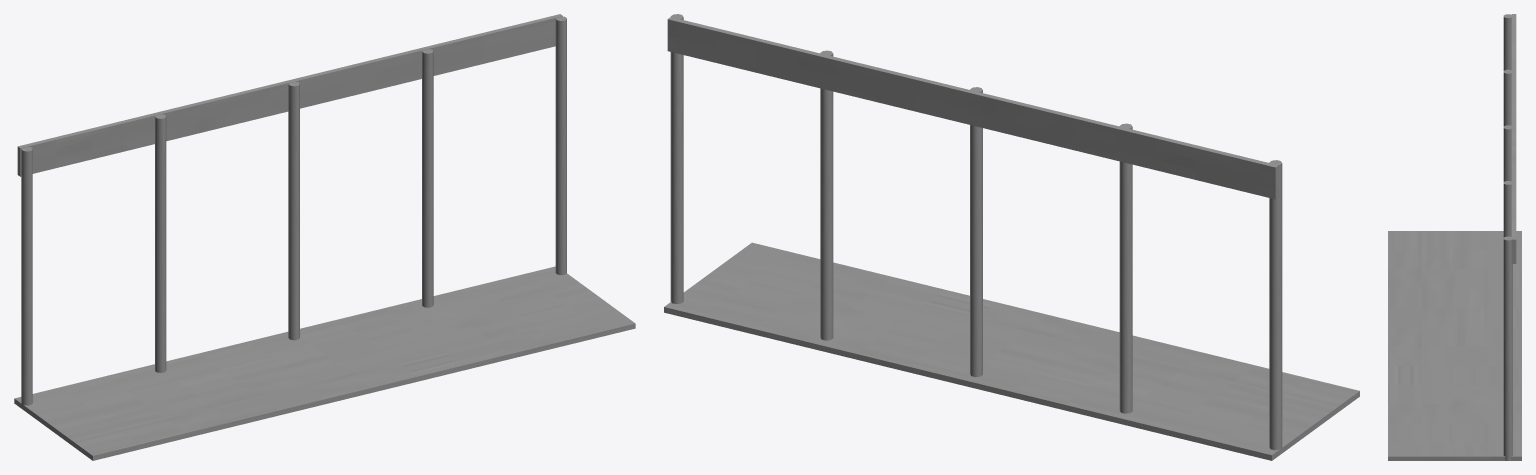
The model's file is oxygen_stant.glb.
3 renders of one model, left to right at view 1: azimuth 30°, elevation 25°; view 2: azimuth 150°, elevation 25°; view 3: azimuth 270°, elevation 25°, orthographic. The views are drawn at different scales.
Parts seen in each view (by area): view 1: Oxygen Stant; view 2: Oxygen Stant; view 3: Oxygen Stant.
Part boxes in pixels (<box>): Oxygen Stant: <box>14,14,635,460</box>; Oxygen Stant: <box>664,14,1359,460</box>; Oxygen Stant: <box>1388,14,1521,460</box>.
Bounding box in the file's own units: 2.2 × 1 × 0.55.
Materials: 1 (1 with a texture image).
